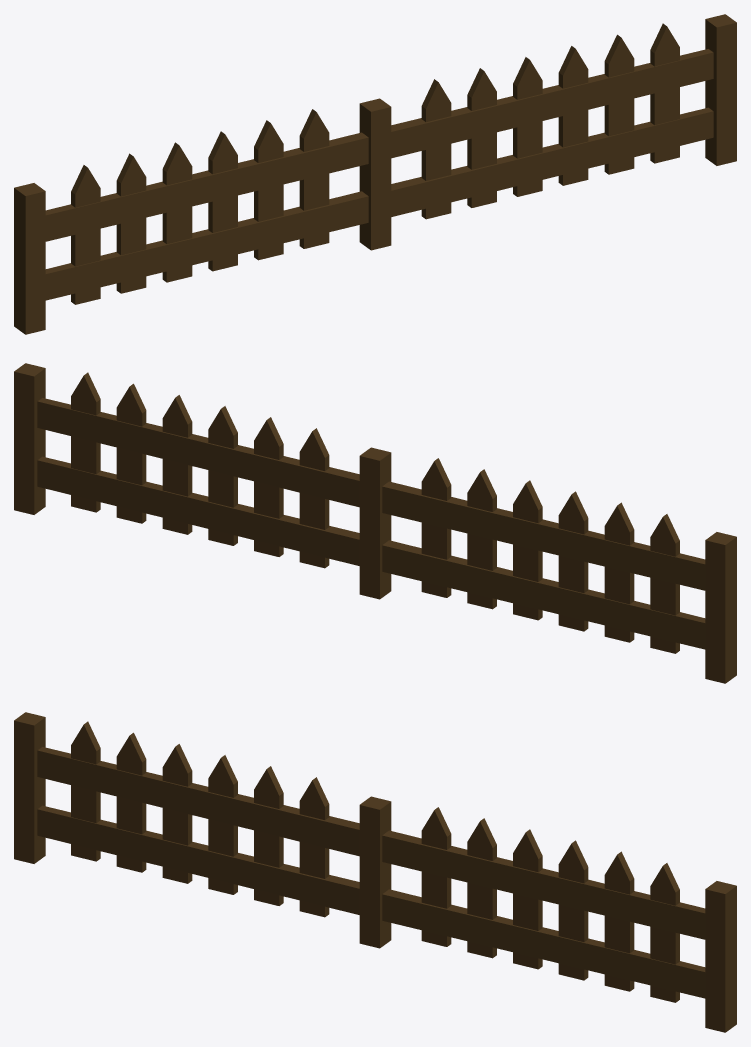
Rendered from Fence.fbx.
3 renders of one model, top to bottom at view 1: azimuth 30°, elevation 25°; view 2: azimuth 150°, elevation 25°; view 3: azimuth 330°, elevation 25°, orthographic.
Parts seen in each view (by area): view 1: Fence; view 2: Fence; view 3: Fence.
Boxes of the visible parts, x1=… form: Fence: x1=14, y1=14, x2=736, y2=334; Fence: x1=14, y1=363, x2=736, y2=683; Fence: x1=14, y1=712, x2=736, y2=1032.
Size of the model in its own units: 5.89 by 1.17 by 0.1655.
